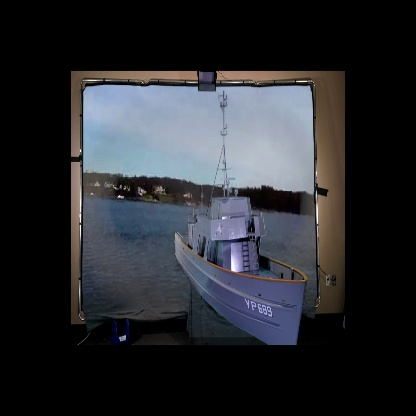YP689: (174, 92, 308, 345)
